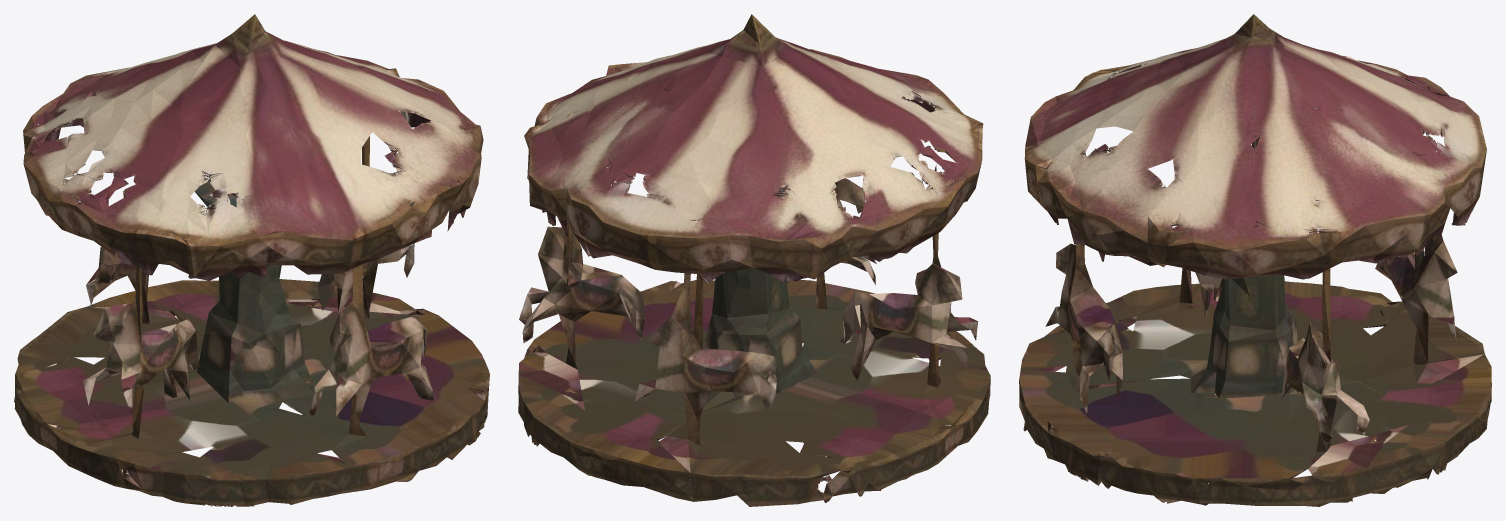
Rendered from park_carousel_1117.glb.
3 views of the same model, side by side, from view 1: azimuth 30°, elevation 25°; view 2: azimuth 150°, elevation 25°; view 3: azimuth 270°, elevation 25° (orthographic).
Parts seen in each view (by area): view 1: world; view 2: world; view 3: world.
Part boxes in pixels (bbox=[...]): world: bbox=[14, 14, 489, 506]; world: bbox=[518, 14, 990, 506]; world: bbox=[1019, 14, 1491, 506].
Size of the model in its own units: 1.08 by 1 by 1.08.
1 material, 1 textured.
